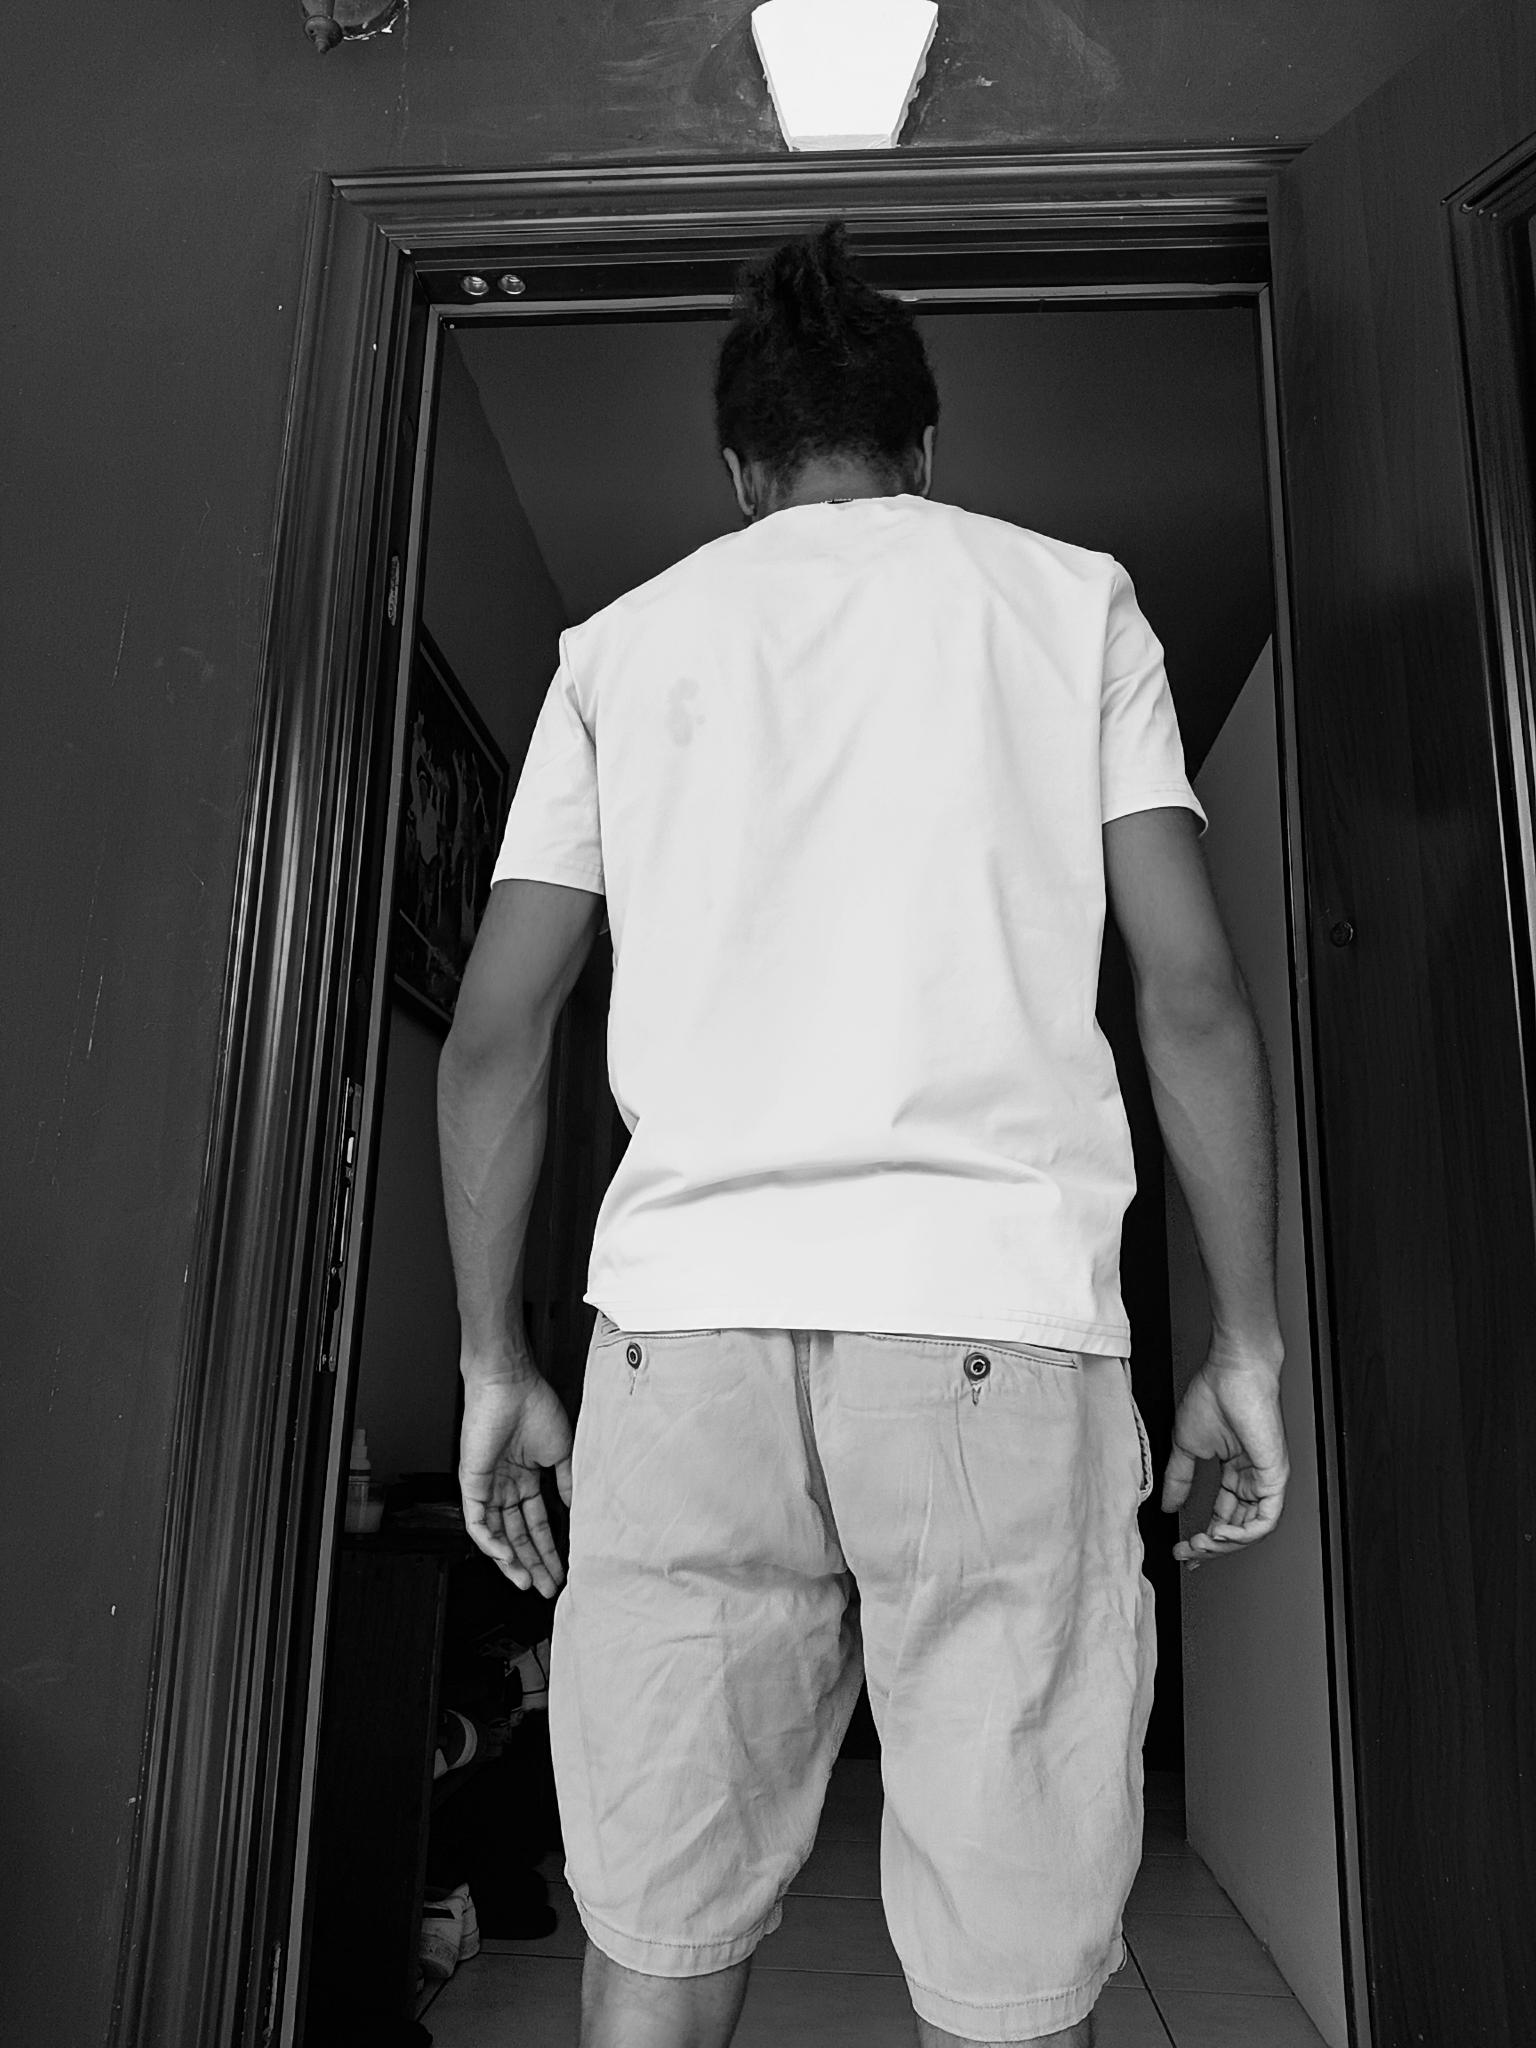back: (429, 218, 1292, 2040)
